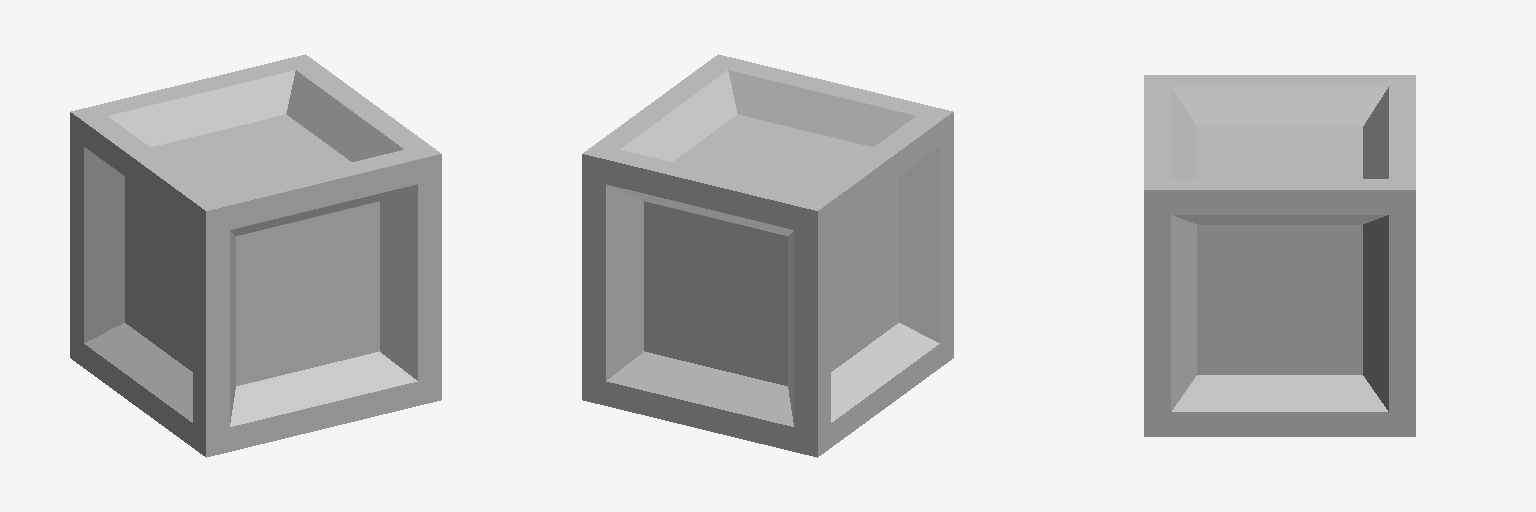
Rendered from puzzleboxDummy.obj.
3 views of the same model, side by side, from view 1: azimuth 30°, elevation 25°; view 2: azimuth 150°, elevation 25°; view 3: azimuth 270°, elevation 25° (orthographic).
Visible parts, largest first — view 1: puzzlebox; view 2: puzzlebox; view 3: puzzlebox.
Boxes of the visible parts, <box> form: puzzlebox: <box>70,54,441,457</box>; puzzlebox: <box>582,54,953,457</box>; puzzlebox: <box>1144,75,1415,436</box>.
Size of the model in its own units: 2 by 2 by 2.